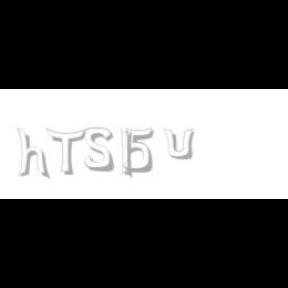5: (122, 128, 154, 174)
S: (84, 128, 115, 172)
T: (45, 128, 85, 176)
h: (16, 128, 52, 180)
l: (120, 128, 136, 180)
u: (164, 128, 198, 160)
